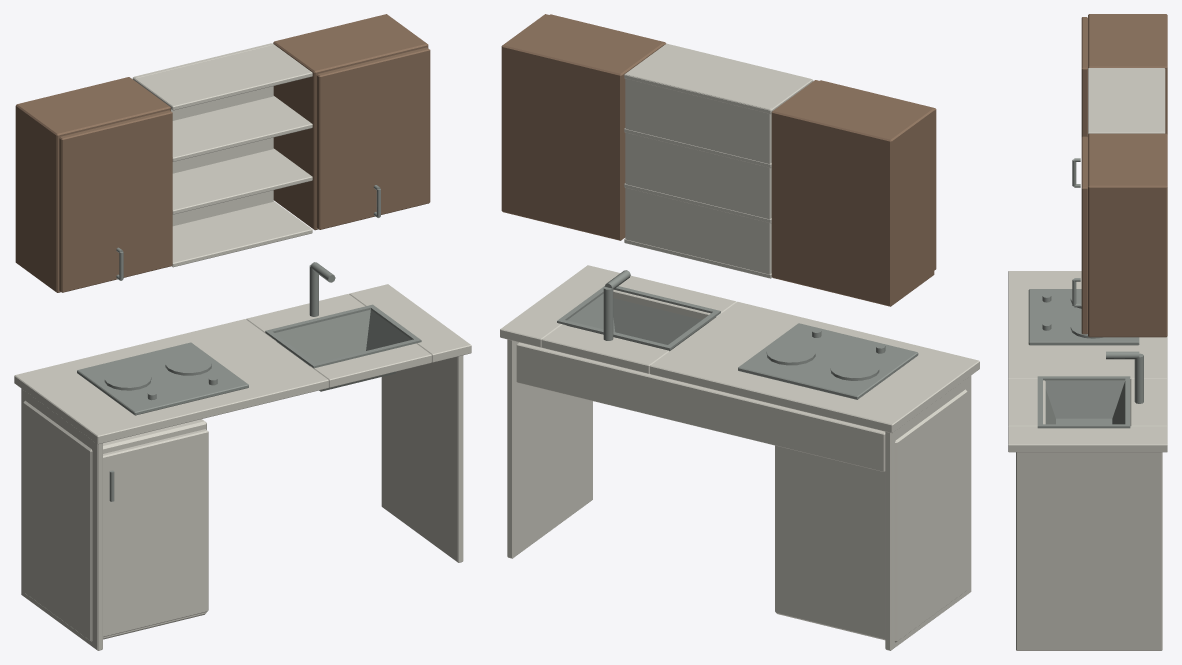
Rendered from dorm-kitchenette.glb.
3 views of the same model, side by side, from view 1: azimuth 30°, elevation 25°; view 2: azimuth 150°, elevation 25°; view 3: azimuth 270°, elevation 25° (orthographic). The views are drawn at different scales.
Visible parts, largest first — view 1: dorm-kitchenette; view 2: dorm-kitchenette; view 3: dorm-kitchenette.
Part boxes in pixels (<box>): dorm-kitchenette: <box>14,14,471,650</box>; dorm-kitchenette: <box>500,14,979,650</box>; dorm-kitchenette: <box>1008,14,1167,650</box>.
Bounding box in the file's own units: 1.6 × 2 × 0.62.
